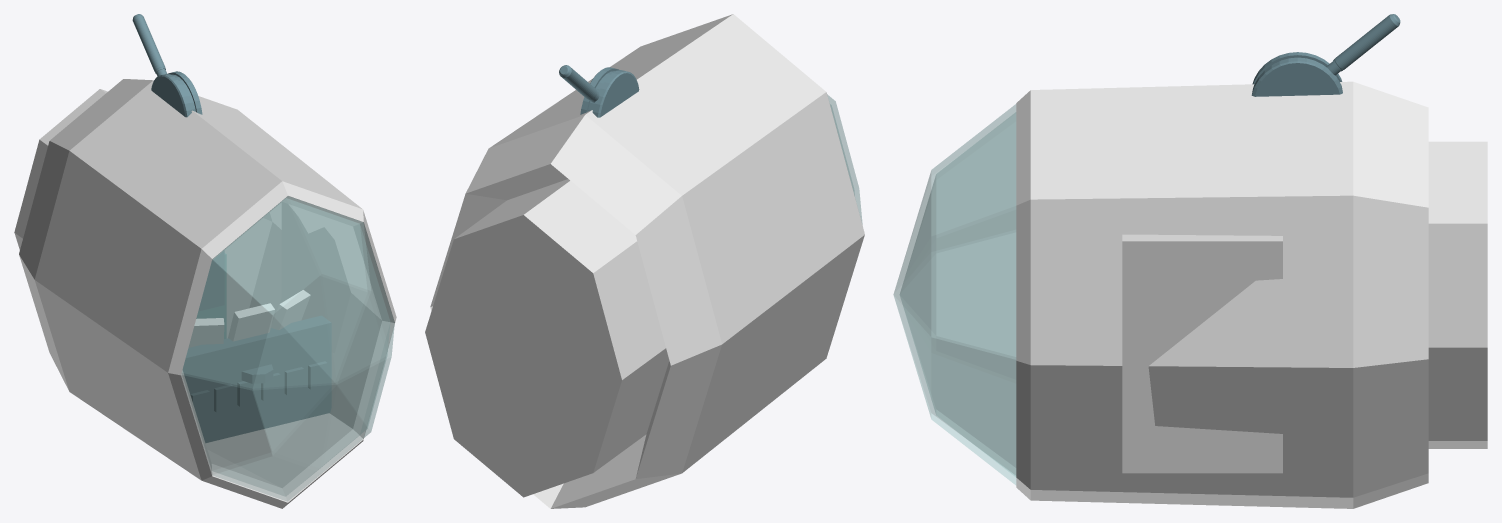
File: testsub.fbx
The picture shows the model from 3 angles, left to right: view 1: azimuth 30°, elevation 25°; view 2: azimuth 150°, elevation 25°; view 3: azimuth 270°, elevation 25°; orthographic projection. The views are drawn at different scales.
Parts seen in each view (by area): view 1: Mola_HUD_Ring.002, Mola_Windshield.001, Mola_Dashboard.001, Cube, Screen_A.001, 실린더.002, Screen_B.001, Mola_Storage.001, 실린더.003, Mola_Cockpit_Seat.001; view 2: Mola_HUD_Ring.002, 실린더.002, Mola_Windshield.001, 실린더.003; view 3: Mola_HUD_Ring.002, Mola_Windshield.001, Cube, 실린더.002, 실린더.003.
Boxes of the visible parts, x1,y1,x2,y2 form: Mola_HUD_Ring.002: [14, 79, 396, 508]; Mola_Windshield.001: [181, 196, 394, 501]; Mola_Dashboard.001: [182, 315, 331, 442]; Cube: [280, 202, 350, 352]; Screen_A.001: [188, 290, 310, 347]; 실린더.002: [151, 71, 202, 117]; Screen_B.001: [228, 303, 274, 341]; Mola_Storage.001: [198, 250, 224, 311]; 실린더.003: [132, 14, 166, 76]; Mola_Cockpit_Seat.001: [196, 253, 226, 338]; Mola_HUD_Ring.002: [425, 14, 864, 508]; 실린더.002: [580, 67, 639, 117]; Mola_Windshield.001: [827, 94, 862, 224]; 실린더.003: [559, 65, 599, 102]; Mola_HUD_Ring.002: [1016, 81, 1487, 508]; Mola_Windshield.001: [893, 104, 1016, 484]; Cube: [1122, 234, 1282, 473]; 실린더.002: [1251, 52, 1342, 96]; 실린더.003: [1326, 14, 1400, 75].
Size of the model in its own units: 113 by 176 by 192.
